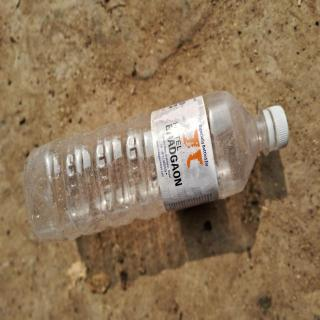Plastic-bottle: (20, 87, 295, 257)
